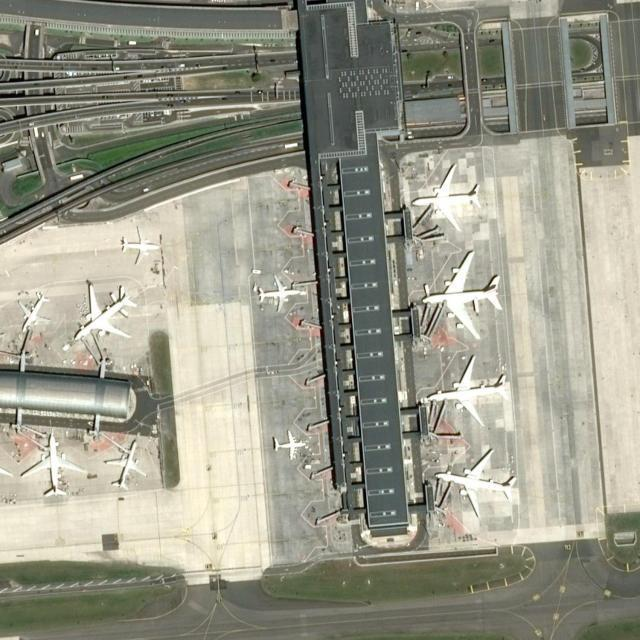Aircraft: (418, 248, 509, 338), (428, 448, 516, 519), (424, 359, 516, 425), (409, 164, 485, 230), (21, 432, 85, 498), (70, 281, 136, 344), (99, 438, 147, 491), (255, 274, 305, 314), (15, 286, 51, 331), (116, 226, 161, 262), (270, 428, 308, 460)
